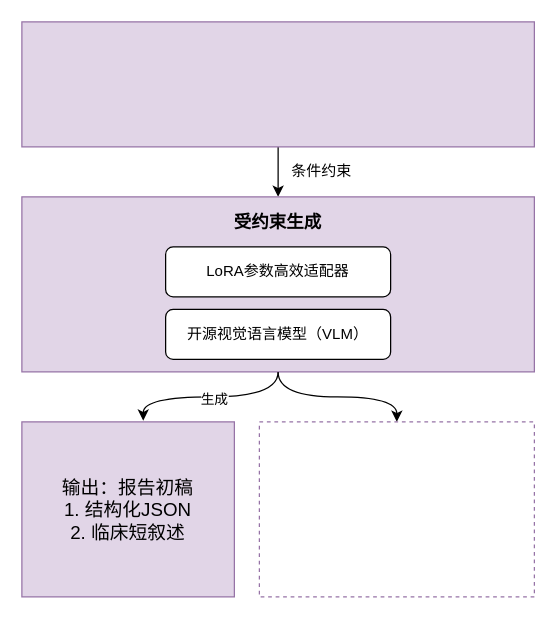
This 556x619 diagram has some shape labels left out. The centre of each missing label's shape, as x and y in pixels:
生成硬约束 1. 必须引用ID 2. 禁止无依据结论 3. 不足项强制标‘不可判断’: the point at 396,509
输入：联合证据链 视觉证据ID 知识条目ID 证据类型: the point at 277,84
